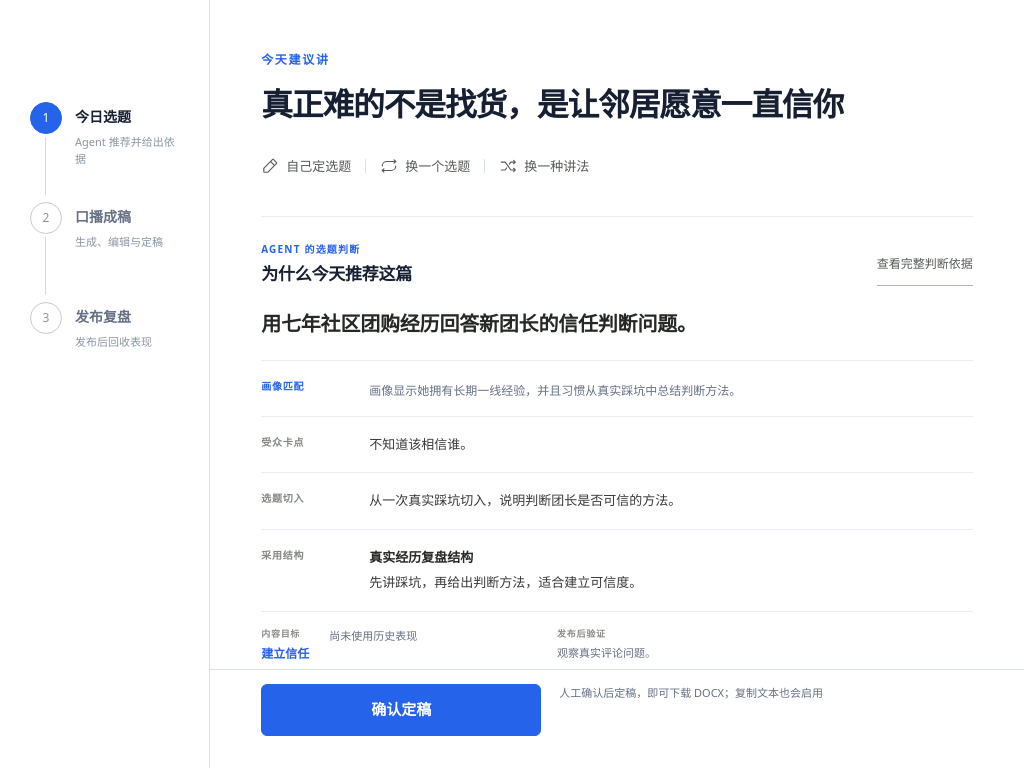
approved AI-native page hierarchy › 把详细证据放入用户主动打开的判断依据层
Expected: the dialog "这次推荐依据" is not shown
What coordinates should you click on to do the following:
click the button "查看完整判断依据"
I would click on:
 (925, 264)
Its box is [877,242,973,286].
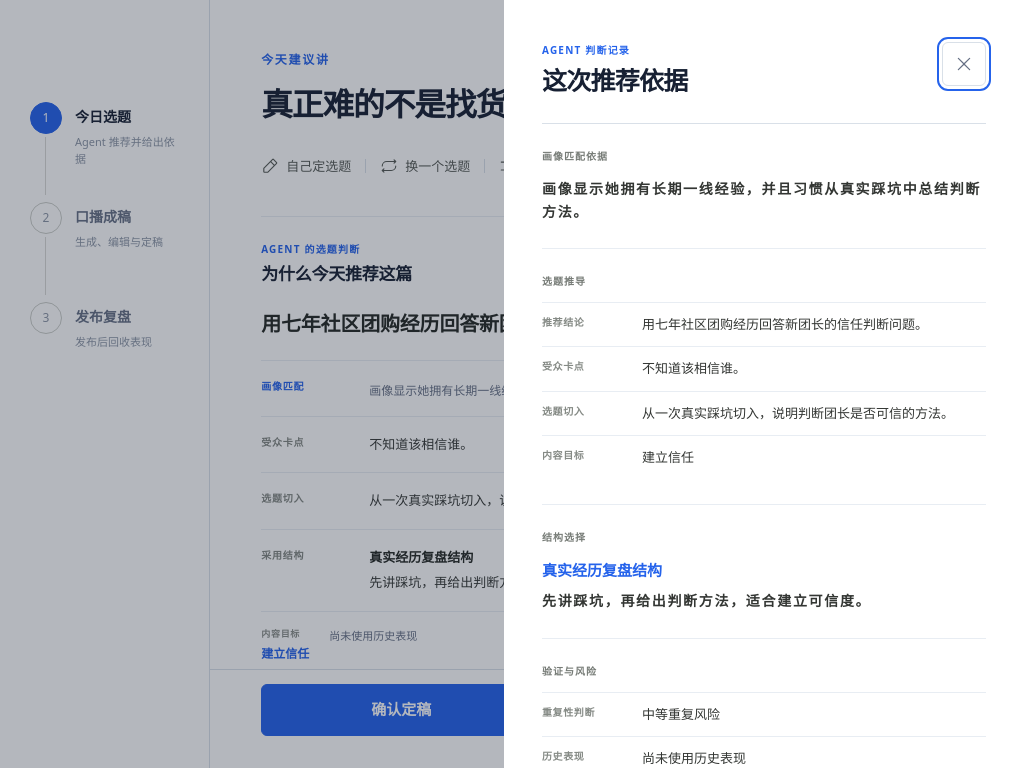
Expected: the dialog "这次推荐依据" is shown, [504,0,1023,767]
Expected: the text "中等重复风险" is shown, [642,704,720,722]
